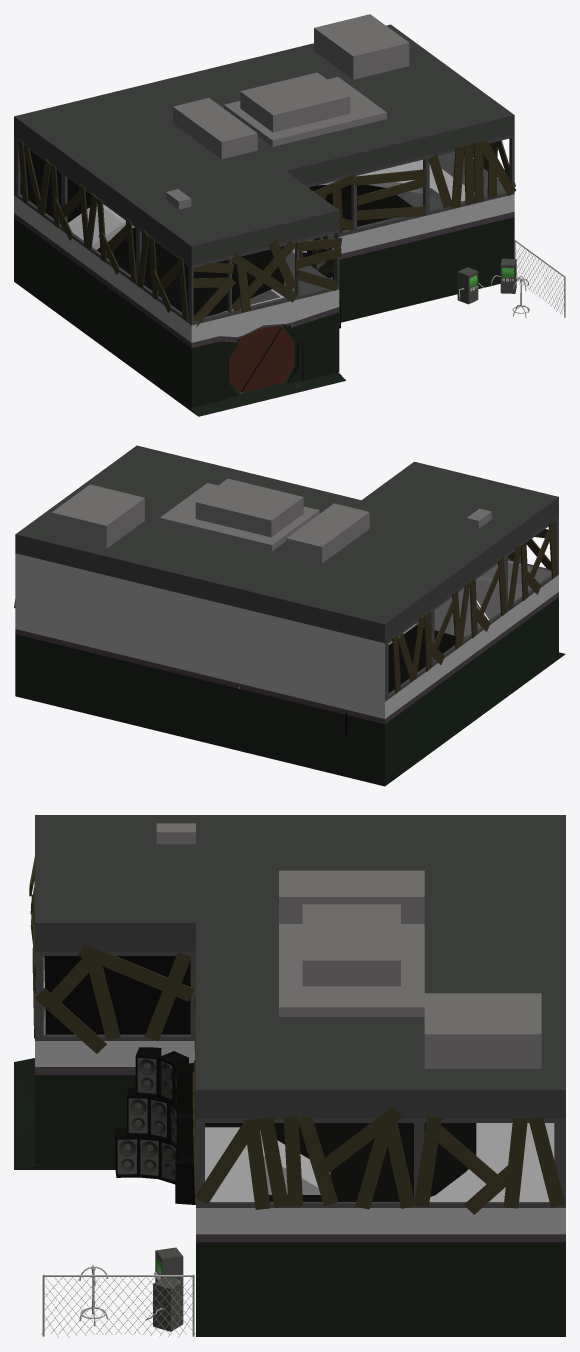
Rendered from DrugLab_V2.fbx.
3 views of the same model, one above another, from view 1: azimuth 30°, elevation 25°; view 2: azimuth 150°, elevation 25°; view 3: azimuth 270°, elevation 25° (orthographic). The views are drawn at different scales.
Visible parts, largest first — view 1: pCube3, pCylinder49, pCube31, pCube5, pCube32, pCube30, polySurface69, pCube8, pCube34, pCube35, pCube36, polySurface80 (+3 smaller); view 2: pCube3; view 3: pCube3, pCylinder49, pCube18, polySurface80, pCube52, pCube41, pCube42, pCube50, pCube43, pCube46, pCube48, pCube44 (+17 smaller).
Boxes of the visible parts, x1,y1,x2,y2 form: pCube3: (14, 14, 514, 416); pCylinder49: (514, 239, 565, 317); pCube31: (355, 169, 426, 185); pCube5: (232, 240, 296, 311); pCube32: (357, 206, 426, 220); pCube30: (357, 177, 426, 205); polySurface69: (457, 267, 478, 304); pCube8: (231, 253, 297, 302); pCube34: (451, 145, 464, 208); pCube35: (464, 143, 474, 205); pCube36: (473, 141, 483, 202); polySurface80: (500, 258, 516, 293); pCube3: (15, 445, 565, 786); pCube3: (14, 815, 565, 1336); pCylinder49: (41, 1274, 195, 1337); pCube18: (78, 944, 194, 1001); polySurface80: (153, 1277, 183, 1331); pCube52: (528, 1116, 565, 1207); pCube41: (244, 1118, 270, 1209); pCube42: (258, 1116, 288, 1207); pCube50: (503, 1117, 527, 1208); pCube43: (283, 1115, 302, 1206); pCube46: (382, 1118, 415, 1208); pCube48: (414, 1115, 441, 1207); pCube44: (297, 1115, 338, 1205).
Size of the model in its own units: 30.1 by 14.51 by 25.21.
